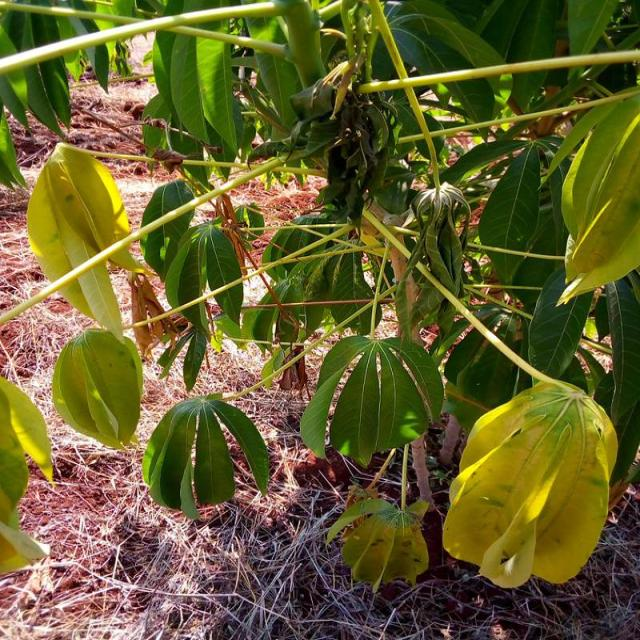cassava leaf: (442, 378, 618, 588), (26, 140, 142, 339), (299, 334, 443, 468), (556, 87, 638, 306), (141, 392, 269, 520), (51, 327, 143, 450)
